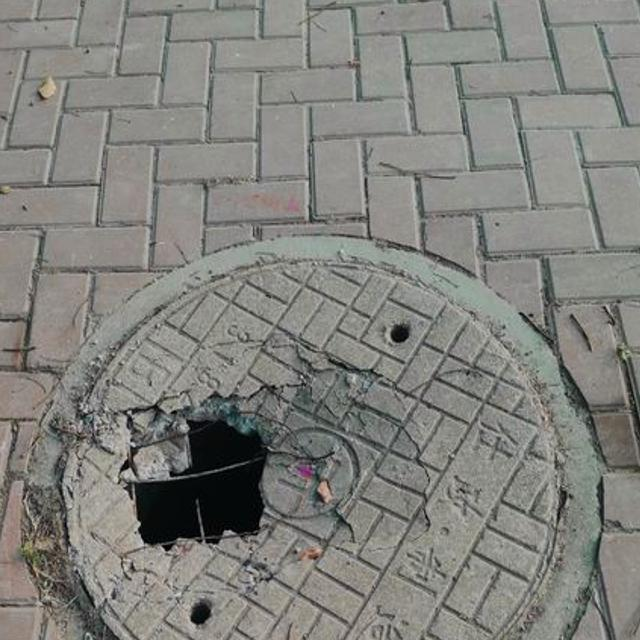broke: (3, 211, 613, 640)
